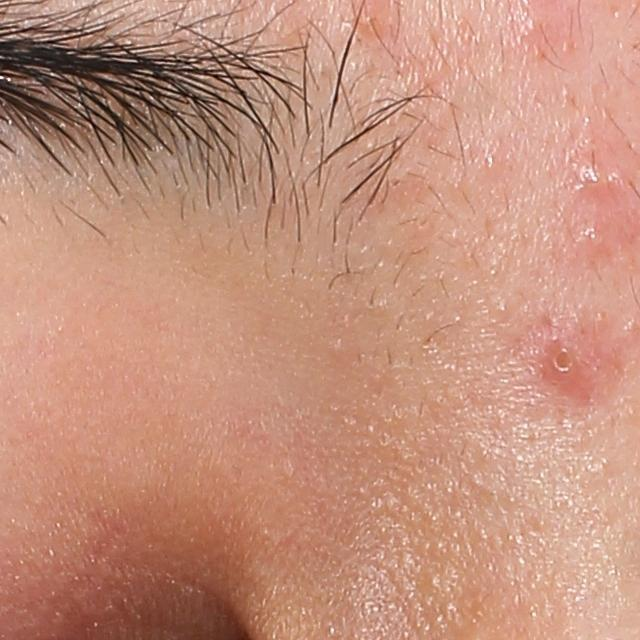papule: (538, 330, 596, 395), (576, 154, 628, 197)
